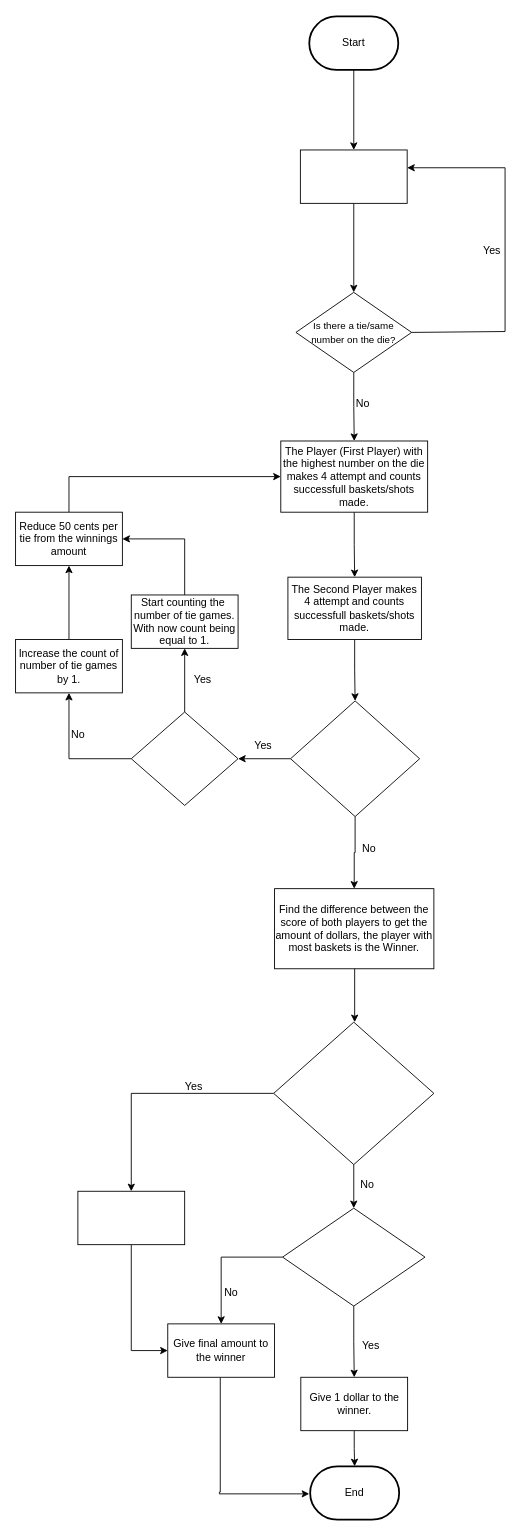
The diagram is 528 pixels wide and 1535 high, and some of its shapes have lost their labels. The centre of each missing label's shape, as x and y in pixels:
"Add 50 cents to the final winning amount." goes at point (131, 1217).
"Both players roll the die." goes at point (353, 176).
"Is the amount negetive?" goes at point (353, 1256).
"Is the final winning amount of dollars a decimal value." goes at point (353, 1093).
"Was basketball shootout game a tie?" goes at point (355, 758).
"Was this the first tie game?" goes at point (184, 758).
